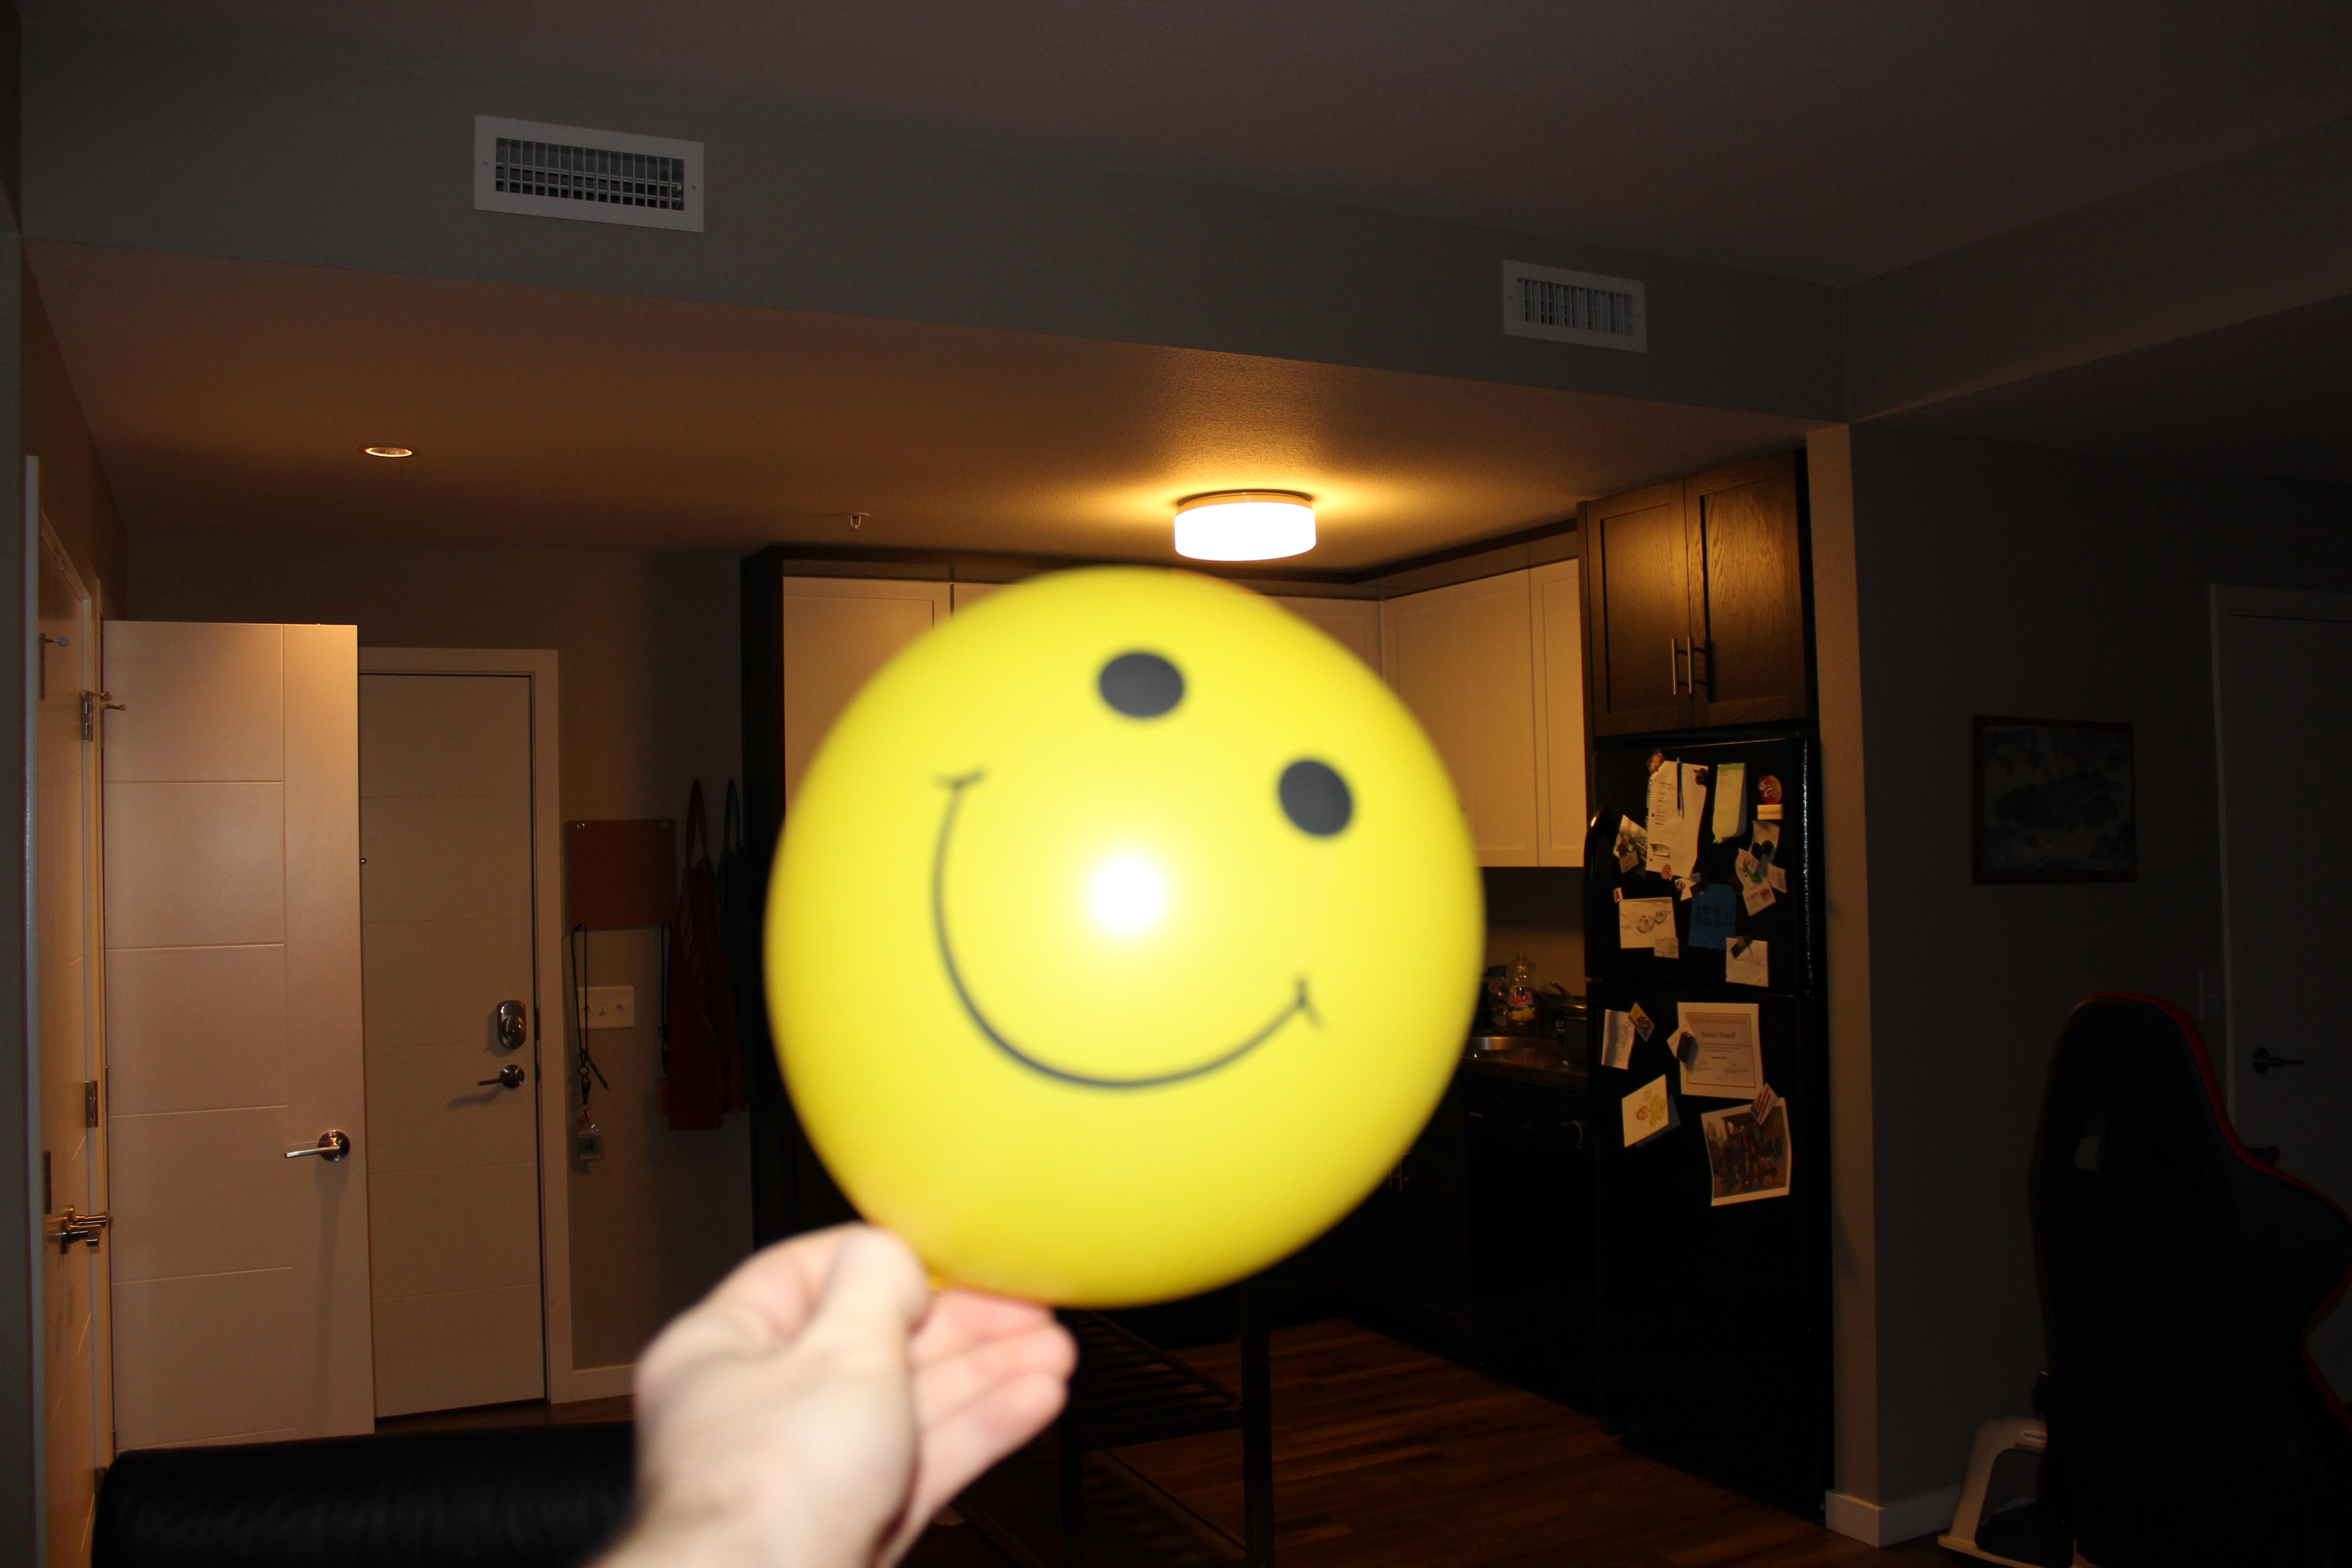yellowBalloon: (714, 509, 1543, 1349)
